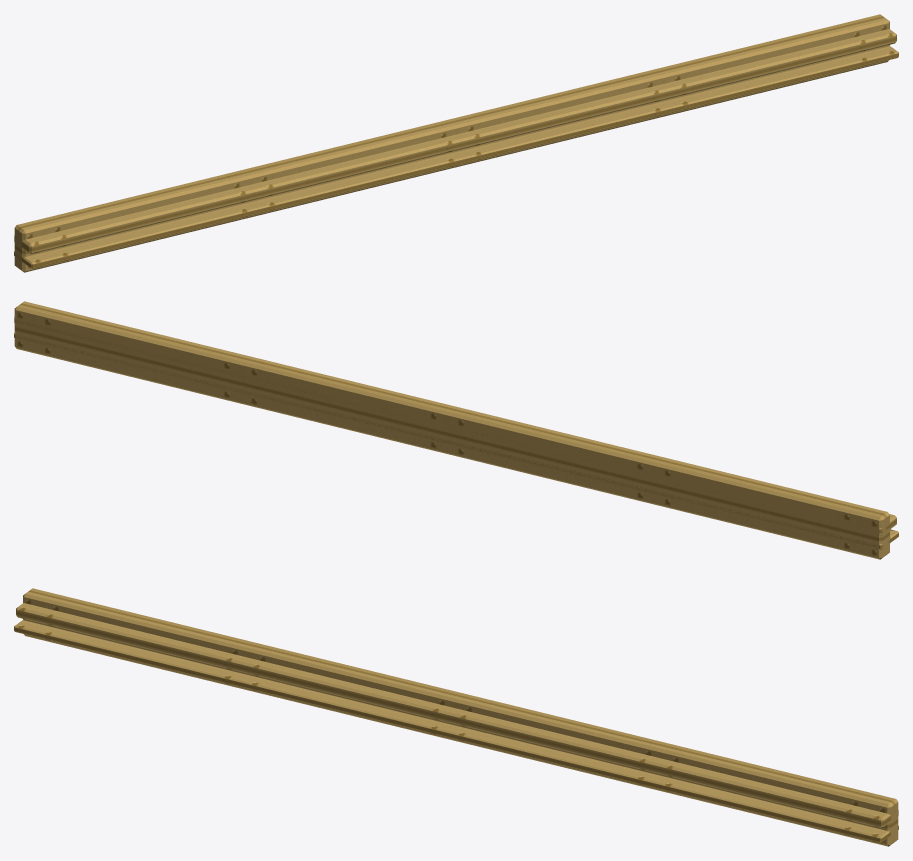
The model's file is MD_14_WallMoulding.fbx.
The picture shows the model from 3 angles, top to bottom: view 1: azimuth 30°, elevation 25°; view 2: azimuth 150°, elevation 25°; view 3: azimuth 330°, elevation 25°; orthographic projection.
Visible parts, largest first — view 1: MD_14_WallMoulding_profile_band, MD_14_WallMoulding_profile_band.001, MD_14_WallMoulding_profile_band.002; view 2: MD_14_WallMoulding_profile_band, MD_14_WallMoulding_profile_band.002, MD_14_WallMoulding_profile_band.001; view 3: MD_14_WallMoulding_profile_band, MD_14_WallMoulding_profile_band.001, MD_14_WallMoulding_profile_band.002.
Boxes of the visible parts, x1,y1,x2,y2 form: MD_14_WallMoulding_profile_band: [14, 14, 889, 272]; MD_14_WallMoulding_profile_band.001: [14, 29, 896, 254]; MD_14_WallMoulding_profile_band.002: [14, 45, 898, 268]; MD_14_WallMoulding_profile_band: [14, 301, 889, 559]; MD_14_WallMoulding_profile_band.002: [14, 332, 898, 549]; MD_14_WallMoulding_profile_band.001: [14, 316, 896, 535]; MD_14_WallMoulding_profile_band: [23, 588, 898, 846]; MD_14_WallMoulding_profile_band.001: [16, 603, 898, 828]; MD_14_WallMoulding_profile_band.002: [14, 619, 898, 842].
Bounding box in the file's own units: 3 × 0.14 × 0.11.
Materials: 1 (1 with a texture image).
